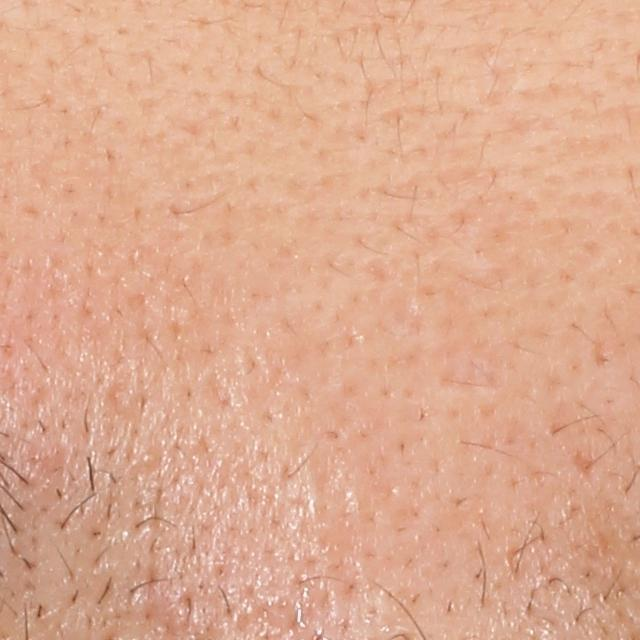atrophic_scar: (570, 449, 601, 484), (588, 330, 608, 374)
